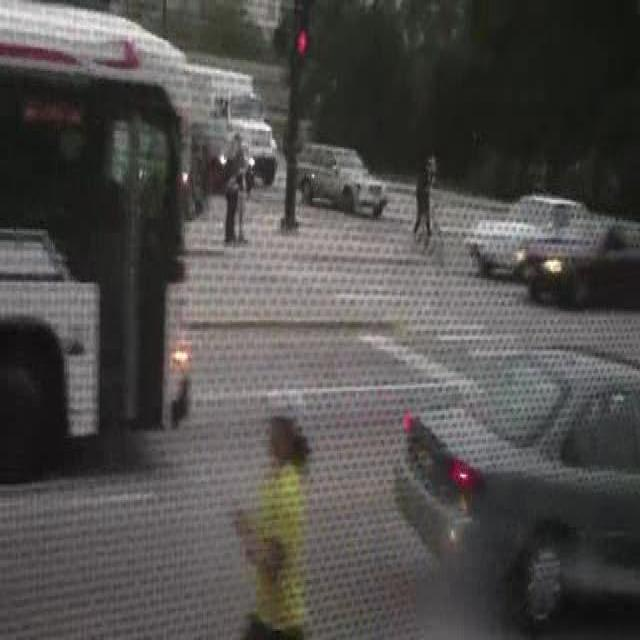other: (235, 449, 309, 603), (166, 324, 191, 372)
